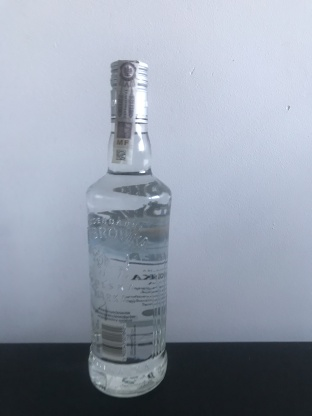nakretka: (107, 54, 151, 128)
